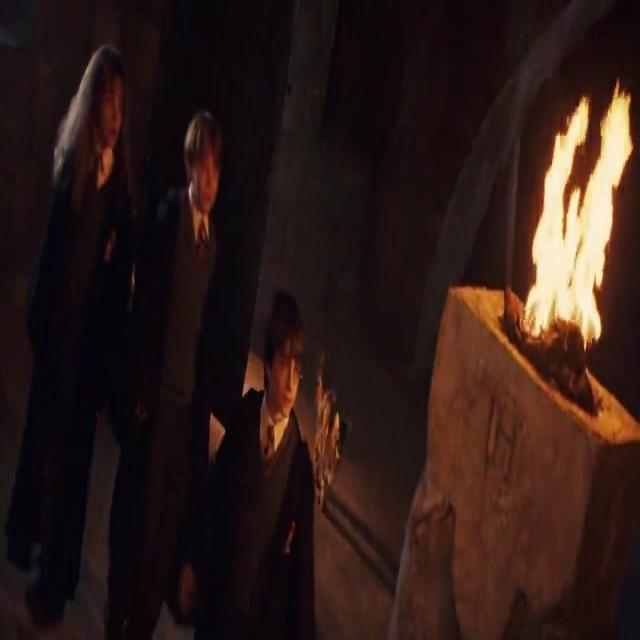Cat: (396, 438, 458, 640), (312, 328, 353, 528)
People: (96, 68, 232, 640), (7, 8, 131, 620), (176, 279, 336, 640)
